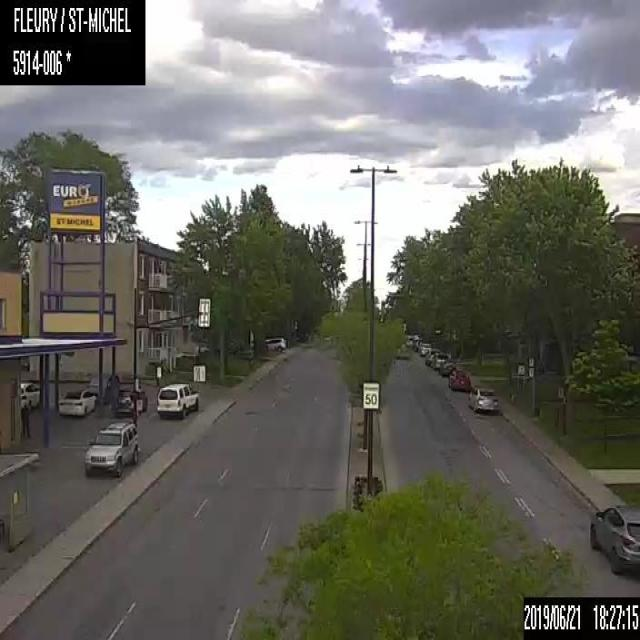pedestrian: (18, 398, 30, 438)
vehicle: (588, 503, 639, 577), (81, 418, 138, 476), (155, 382, 200, 420), (56, 384, 96, 416), (111, 386, 149, 416), (88, 370, 120, 404), (468, 386, 498, 412), (20, 380, 40, 408), (448, 369, 471, 391), (265, 334, 286, 350), (433, 351, 449, 370), (438, 359, 454, 376), (418, 341, 431, 356)
